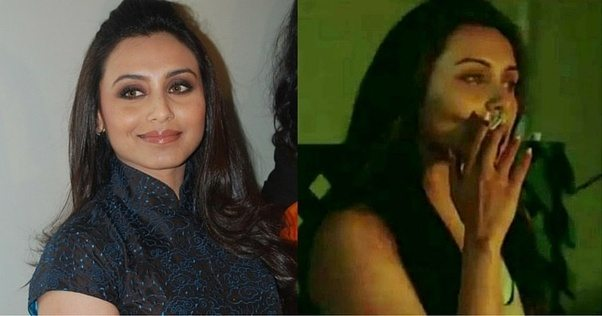cigarette: (482, 111, 508, 134)
